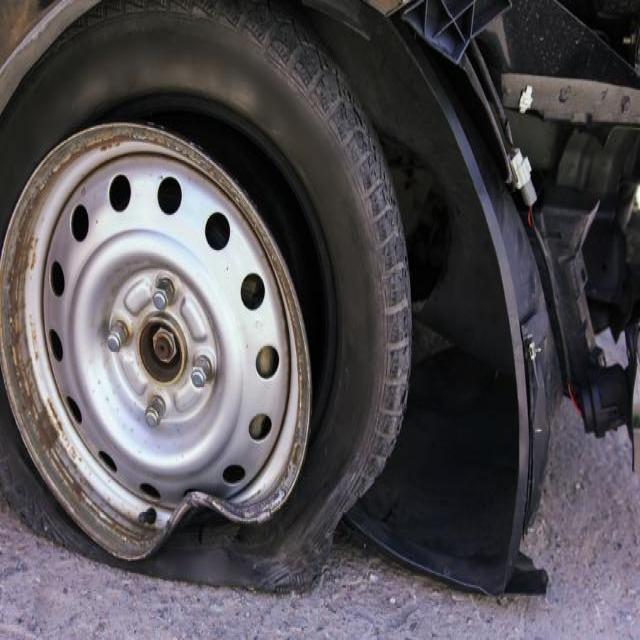Dent: (295, 0, 370, 37), (385, 328, 408, 350), (383, 294, 408, 314), (558, 85, 570, 102), (620, 93, 629, 111), (600, 87, 608, 100), (533, 427, 541, 431)
